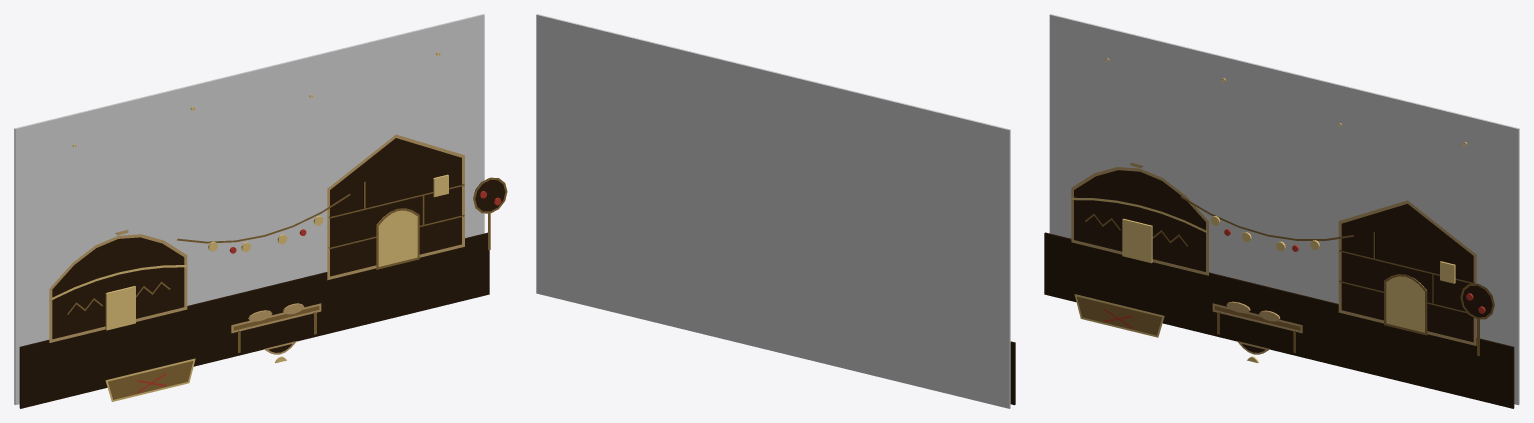
Rendered from loc-svadebnyi-dvor.glb.
3 views of the same model, side by side, from view 1: azimuth 30°, elevation 25°; view 2: azimuth 150°, elevation 25°; view 3: azimuth 330°, elevation 25° (orthographic).
Parts seen in each view (by area): view 1: loc-svadebnyi-dvor; view 2: loc-svadebnyi-dvor; view 3: loc-svadebnyi-dvor.
Boxes of the visible parts, <box> form: loc-svadebnyi-dvor: <box>14,14,507,408</box>; loc-svadebnyi-dvor: <box>536,14,1015,408</box>; loc-svadebnyi-dvor: <box>1044,14,1519,408</box>.
Bounding box in the file's own units: 5.33 × 3 × 0.681.
